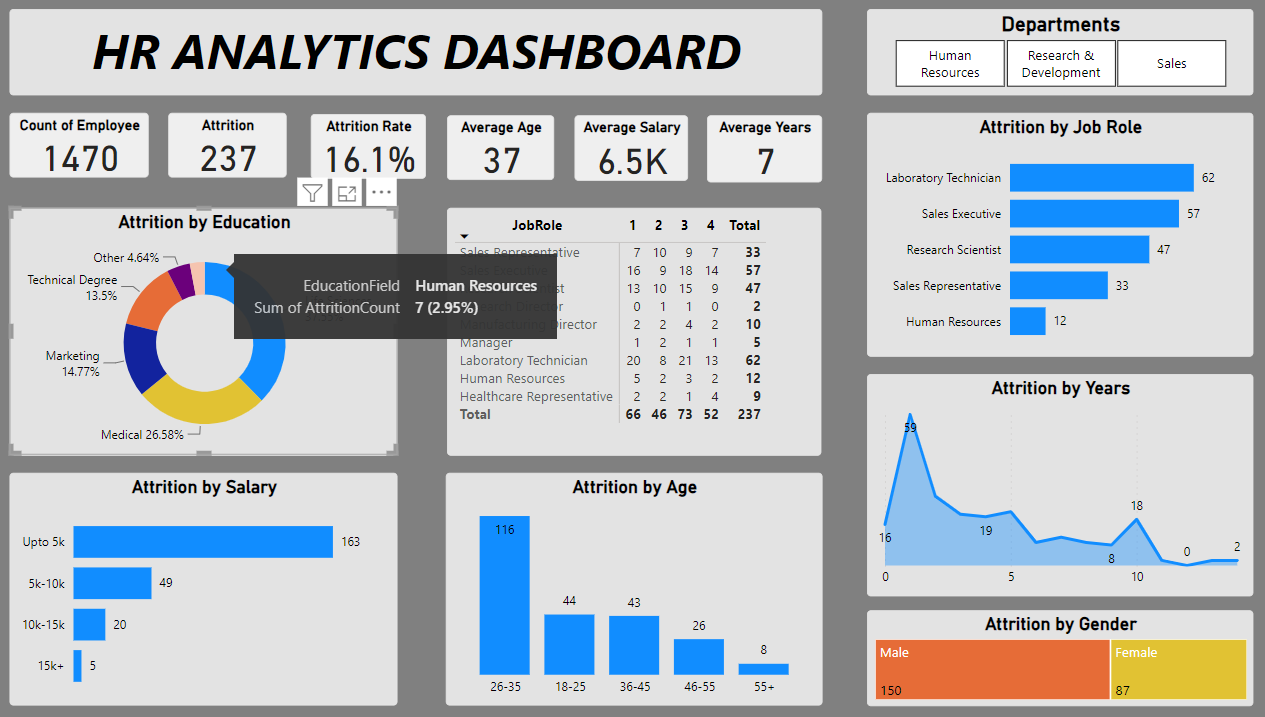

This screenshot's page, from the dashboard's own definition file:
{"tool":"powerbi","page":{"name":"Page 1","canvas":[1280,720],"ordinal":0},"visuals":[{"type":"card","title":"Count of Employee","fields":{"Values":["CountNonNull(HR_Analytics.EmpID)"]},"box":[17,113.8,139.4,64.9],"z":0},{"type":"card","title":"Attrition","fields":{"Values":["Sum(HR_Analytics.AttritionCount)"]},"box":[176.6,113.8,118.1,64.9],"z":1000},{"type":"card","title":"Attrition Rate","fields":{"Values":["HR_Analytics.AttritionRate"]},"box":[319.1,114.9,114.9,64.9],"z":2000},{"type":"card","title":"Average Age ","fields":{"Values":["Avg(HR_Analytics.Age)"]},"box":[455.3,116,107.4,64.9],"z":3000},{"type":"card","title":"Average Salary","fields":{"Values":["Avg(HR_Analytics.MonthlyIncome)"]},"box":[583,116,113.8,66],"z":4000},{"type":"card","title":"Average Years ","fields":{"Values":["Avg(HR_Analytics.YearsAtCompany)"]},"box":[714.9,116,114.9,67],"z":5000},{"type":"donutChart","title":"Attrition by Education","fields":{"Category":["HR_Analytics.EducationField"],"Y":["Sum(HR_Analytics.AttritionCount)"]},"box":[17,208.5,388.3,247.9],"z":6000},{"type":"columnChart","title":"Attrition by Age","fields":{"Category":["HR_Analytics.AgeGroup"],"Y":["Sum(HR_Analytics.AttritionCount)"]},"box":[453.2,473.4,376.6,233],"z":7000},{"type":"pivotTable","fields":{"Rows":["HR_Analytics.JobRole"],"Columns":["HR_Analytics.JobSatisfaction"],"Values":["Sum(HR_Analytics.AttritionCount)"]},"box":[455.3,208.5,374.5,247.9],"z":8000},{"type":"barChart","title":"Attrition by Salary","fields":{"Category":["HR_Analytics.SalarySlab"],"Y":["Sum(HR_Analytics.AttritionCount)"]},"box":[17,473.4,388.3,233],"z":9000},{"type":"barChart","title":"Attrition by Job Role","fields":{"Category":["HR_Analytics.JobRole"],"Y":["Sum(HR_Analytics.AttritionCount)"]},"box":[875.5,113.8,386.2,243.6],"z":10000},{"type":"areaChart","title":"Attrition by Years","fields":{"Category":["HR_Analytics.YearsAtCompany"],"Y":["Sum(HR_Analytics.AttritionCount)"]},"box":[875,375,386.2,222.5],"z":11000},{"type":"treemap","title":"Attrition by Gender","fields":{"Group":["HR_Analytics.Gender"],"Values":["Sum(HR_Analytics.AttritionCount)"]},"box":[875.5,610.6,386.2,95.7],"z":12000},{"type":"slicer","title":"Departments","fields":{"Values":["HR_Analytics.Department"]},"box":[875.5,9.6,386.2,86.2],"z":13000},{"type":"textbox","box":[17,9.6,812.8,86.2],"z":14000}]}

Visuals, with their boxes in screenshot pixels (x1, y1, x2, y2), scaled from the page's 1280x720 canvas onto the 1265x717 screenshot:
"Count of Employee" card: [left=17, top=113, right=155, bottom=178]
"Attrition" card: [left=175, top=113, right=291, bottom=178]
"Attrition Rate" card: [left=315, top=114, right=429, bottom=179]
"Average Age " card: [left=450, top=116, right=556, bottom=180]
"Average Salary" card: [left=576, top=116, right=689, bottom=181]
"Average Years " card: [left=707, top=116, right=820, bottom=182]
"Attrition by Education" donutChart: [left=17, top=208, right=401, bottom=454]
"Attrition by Age" columnChart: [left=448, top=471, right=820, bottom=703]
pivotTable - HR_Analytics.JobRole x HR_Analytics.JobSatisfaction: [left=450, top=208, right=820, bottom=454]
"Attrition by Salary" barChart: [left=17, top=471, right=401, bottom=703]
"Attrition by Job Role" barChart: [left=865, top=113, right=1247, bottom=356]
"Attrition by Years" areaChart: [left=865, top=373, right=1246, bottom=595]
"Attrition by Gender" treemap: [left=865, top=608, right=1247, bottom=703]
"Departments" slicer: [left=865, top=10, right=1247, bottom=95]
textbox: [left=17, top=10, right=820, bottom=95]
